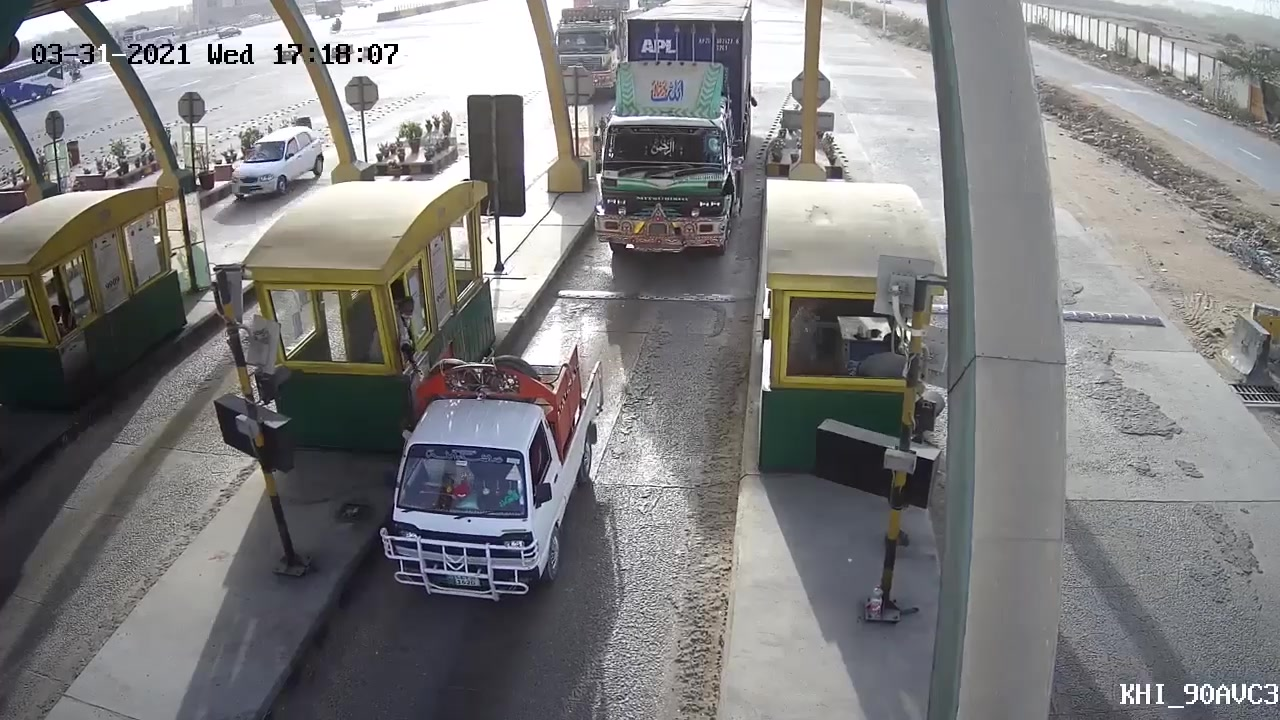F1: (374, 344, 608, 603)
F6: (594, 1, 757, 263)
